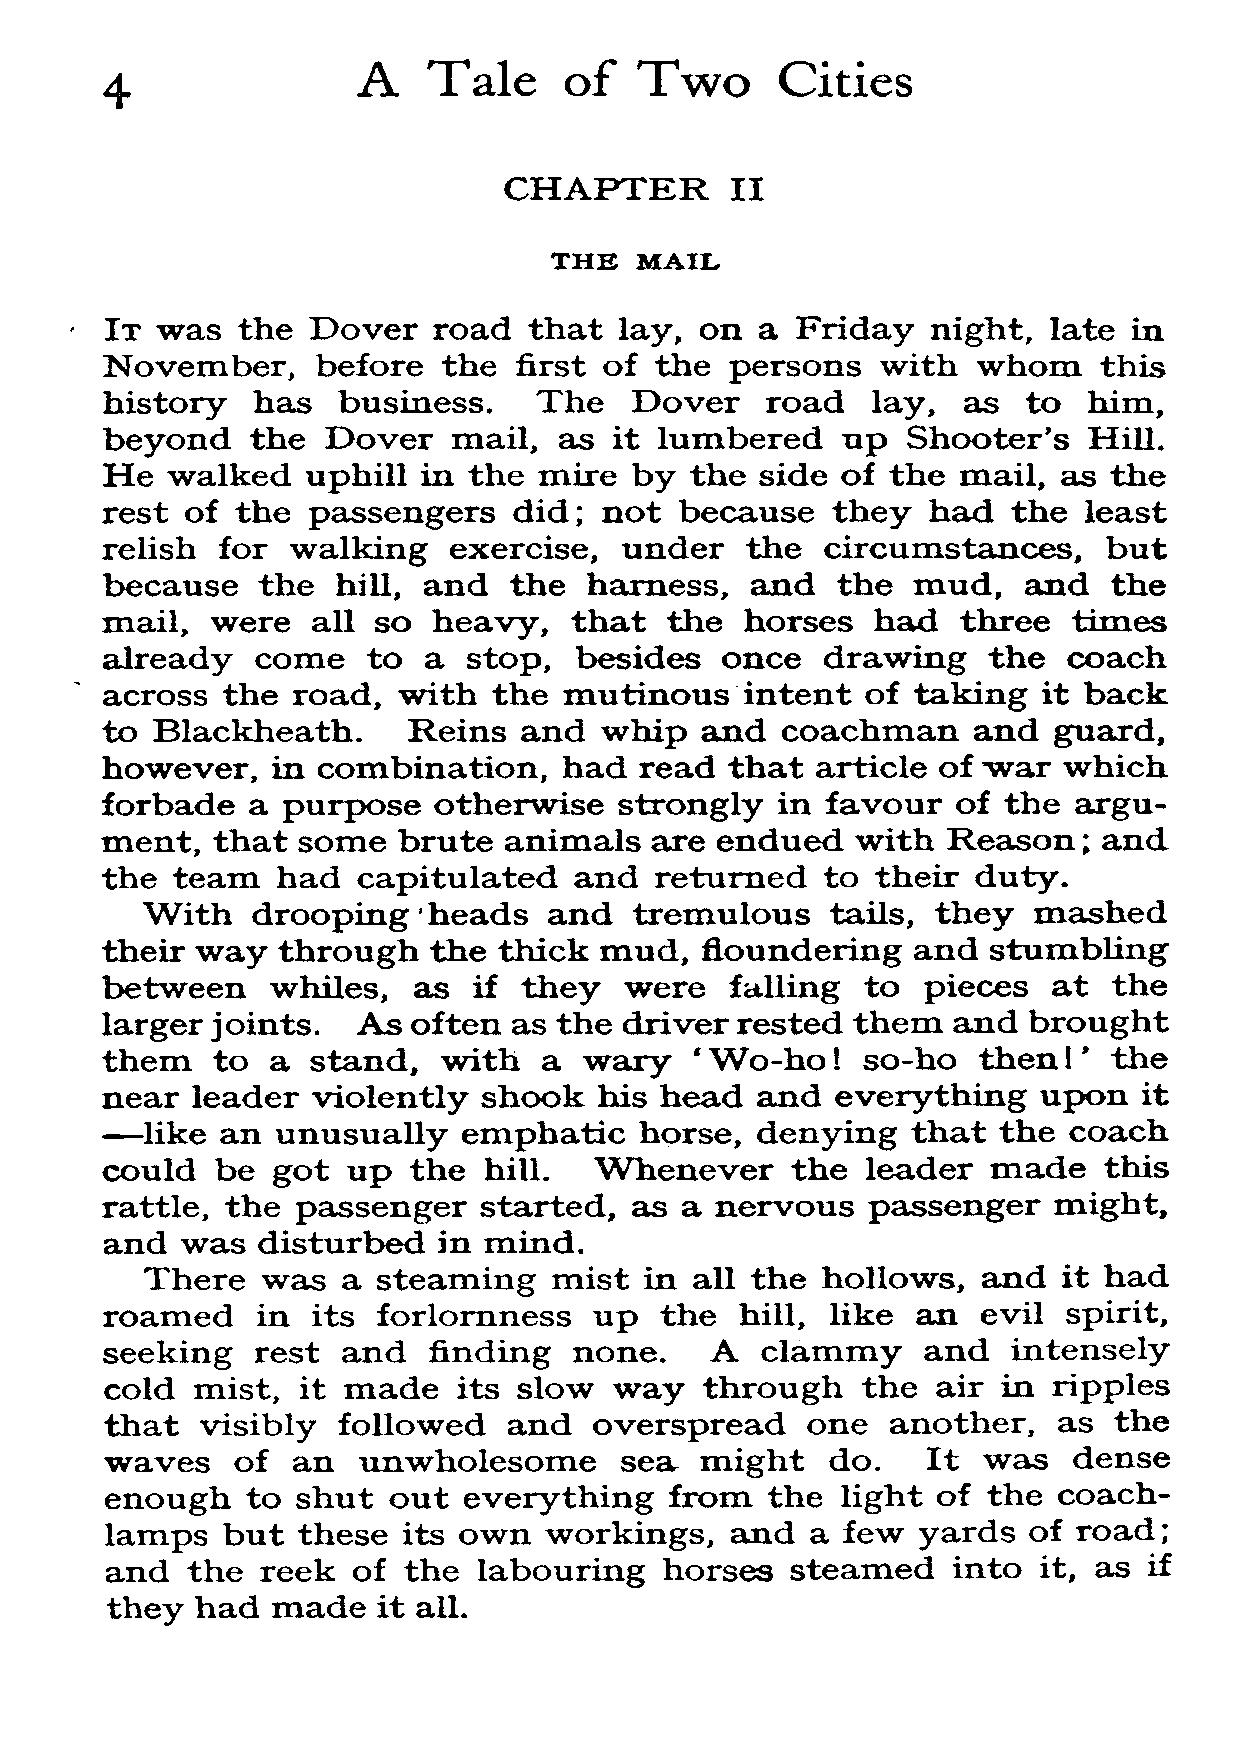chapter: (356, 51, 913, 101), (497, 170, 768, 272)
content: (99, 311, 1172, 1631)
content_pagenumber: (101, 68, 134, 115)
